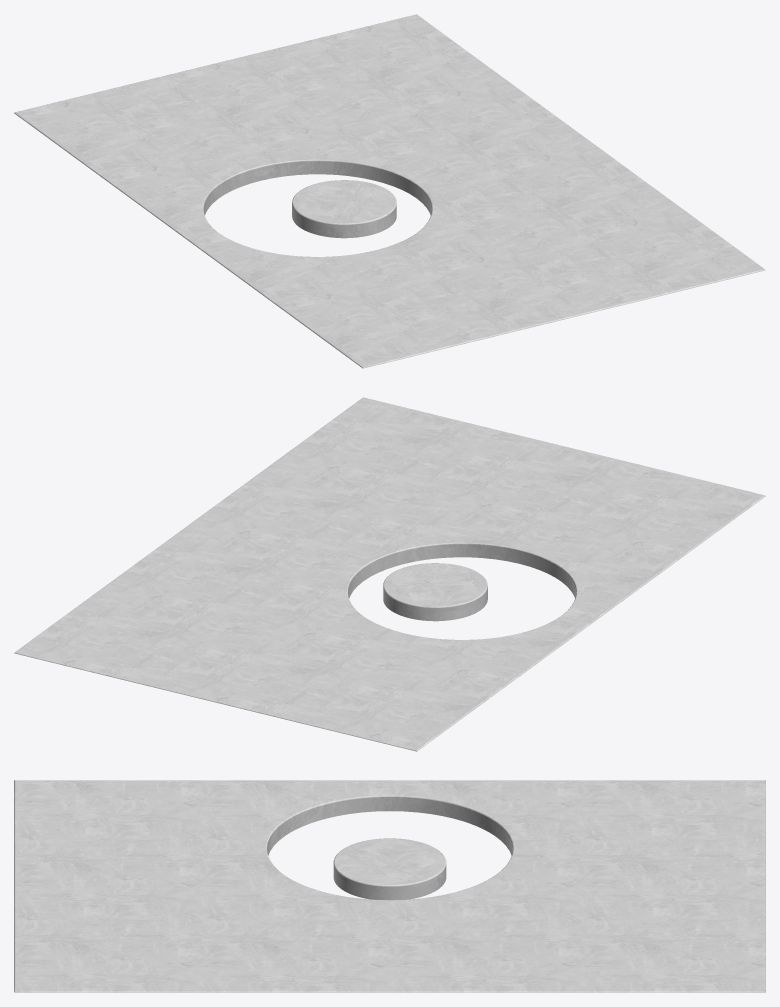
The model's file is platform.glb.
3 renders of one model, top to bottom at view 1: azimuth 30°, elevation 25°; view 2: azimuth 150°, elevation 25°; view 3: azimuth 270°, elevation 25°, orthographic. The views are drawn at different scales.
Parts seen in each view (by area): view 1: Plane, mid_island.001; view 2: Plane, mid_island.001; view 3: Plane, mid_island.001.
Boxes of the visible parts, x1=… form: Plane: x1=14, y1=14, x2=765, y2=368; mid_island.001: x1=292, y1=180, x2=396, y2=238; Plane: x1=14, y1=397, x2=765, y2=751; mid_island.001: x1=383, y1=563, x2=487, y2=621; Plane: x1=14, y1=780, x2=765, y2=992; mid_island.001: x1=333, y1=838, x2=446, y2=900.
Size of the model in its own units: 4 by 0.1351 by 6.
Materials: 1 (1 with a texture image).
